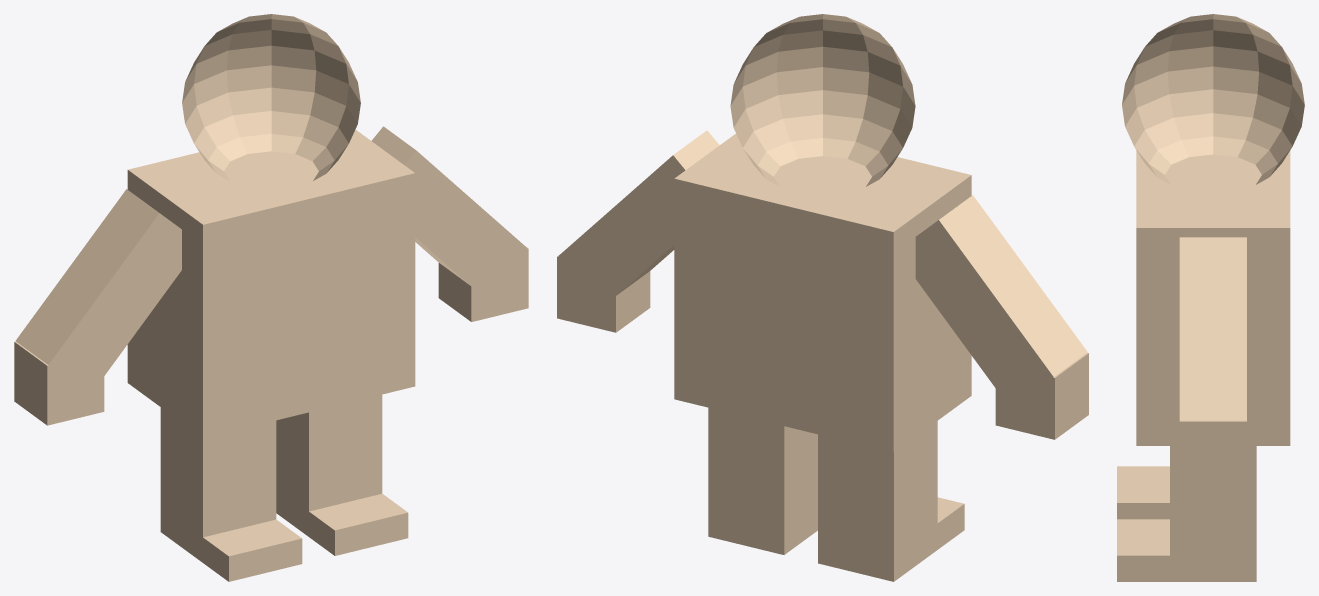
File: dwarf_apose.glb
3 renders of one model, left to right at view 1: azimuth 30°, elevation 25°; view 2: azimuth 150°, elevation 25°; view 3: azimuth 270°, elevation 25°, orthographic. The views are drawn at different scales.
Visible parts, largest first — view 1: Body; view 2: Body; view 3: Body.
Part boxes in pixels (bbox=[...]): Body: bbox=[14, 14, 528, 581]; Body: bbox=[557, 14, 1088, 581]; Body: bbox=[1117, 14, 1304, 581].
Bounding box in the file's own units: 1.18 × 1.18 × 0.39.
